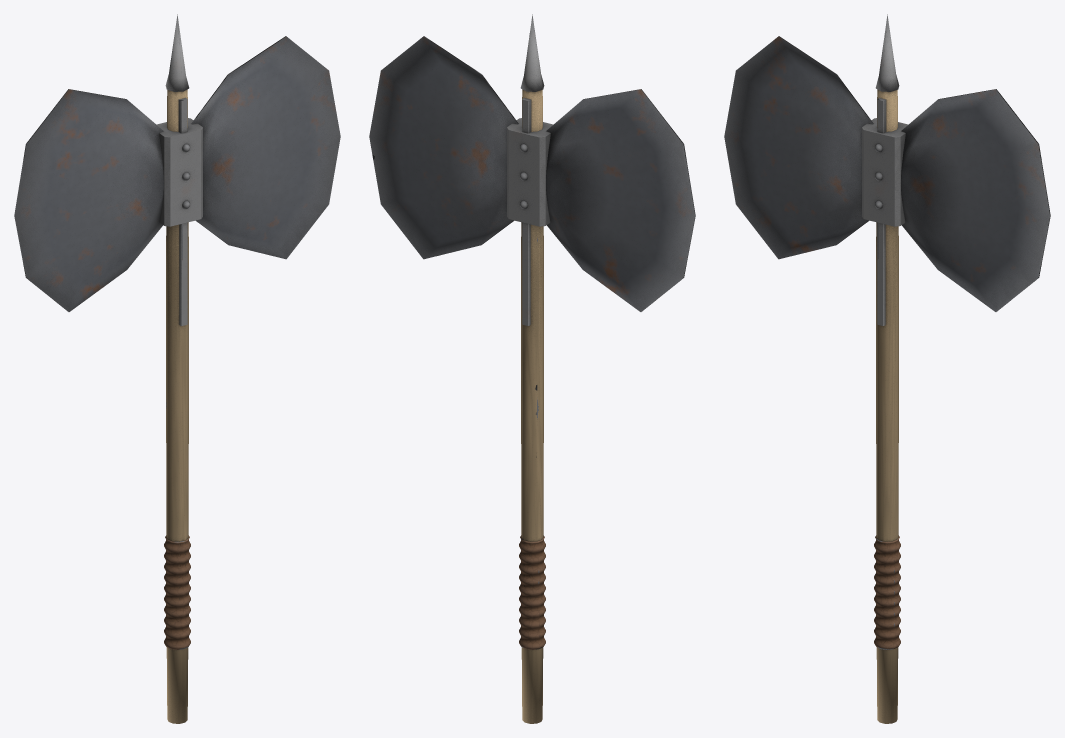
Rendered from cold-iron-greataxe.glb.
3 renders of one model, left to right at view 1: azimuth 30°, elevation 25°; view 2: azimuth 150°, elevation 25°; view 3: azimuth 330°, elevation 25°, orthographic.
Visible parts, largest first — view 1: cold-iron-greataxe; view 2: cold-iron-greataxe; view 3: cold-iron-greataxe.
Part boxes in pixels (x1,y1,x2,y2): cold-iron-greataxe: (14, 14, 340, 723); cold-iron-greataxe: (369, 14, 695, 723); cold-iron-greataxe: (724, 14, 1050, 723).
Bounding box in the file's own units: 1.68 × 3.48 × 0.188.
1 material, 1 textured.
